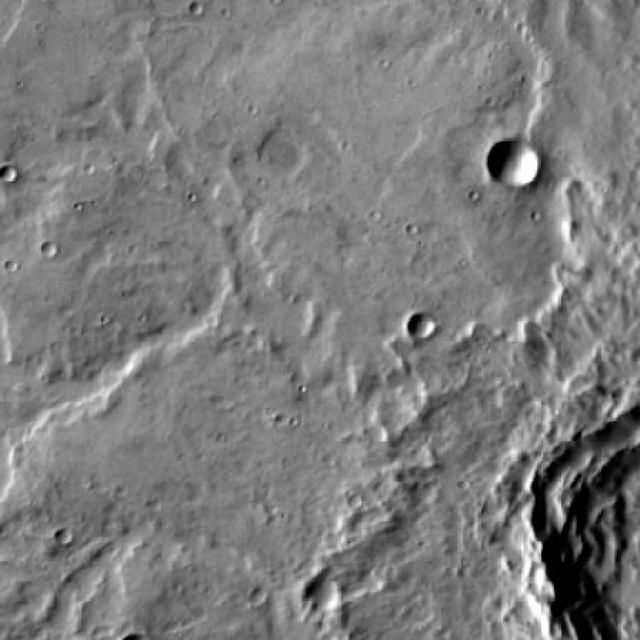crater: (486, 138, 539, 187), (263, 137, 308, 180), (410, 313, 436, 338), (2, 163, 18, 183), (54, 528, 72, 544), (249, 589, 266, 605), (40, 244, 57, 259)
